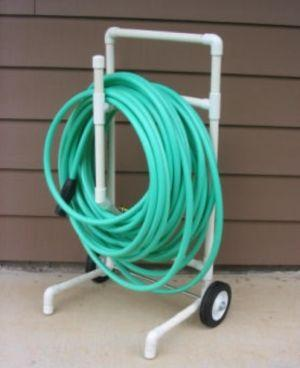PVC: (41, 69, 228, 297), (136, 287, 202, 361), (35, 265, 112, 319), (97, 26, 233, 54), (199, 29, 223, 163), (90, 52, 109, 205)
